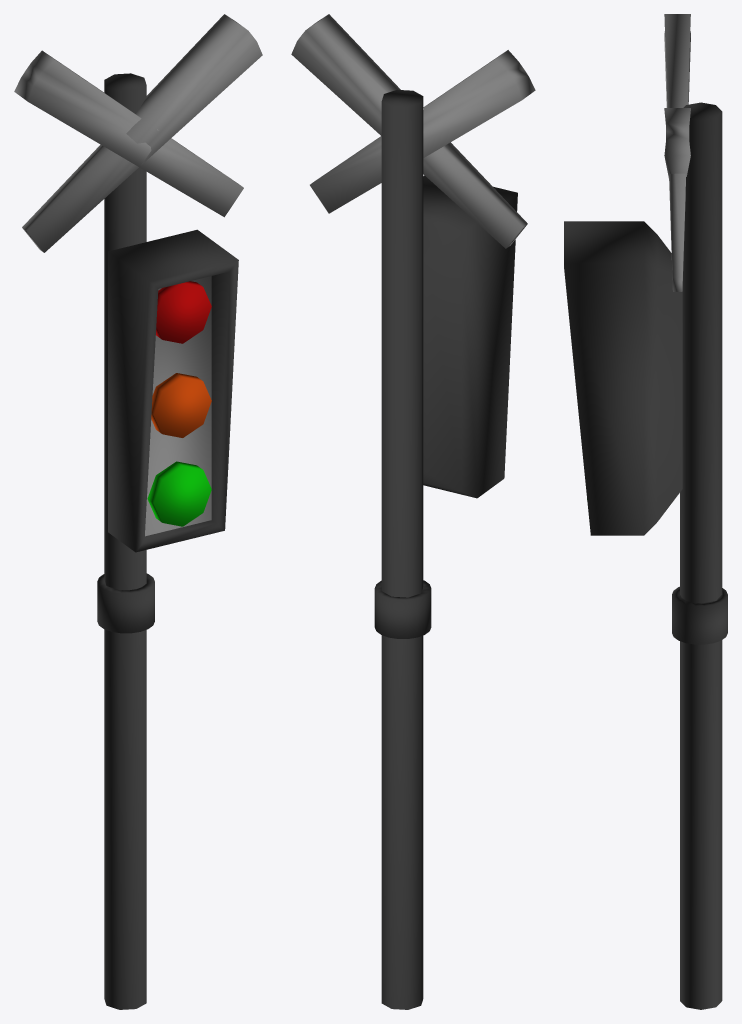
The model's file is TrafficLightOBJ.obj.
The picture shows the model from 3 angles, left to right: view 1: azimuth 30°, elevation 25°; view 2: azimuth 150°, elevation 25°; view 3: azimuth 270°, elevation 25°; orthographic projection. The views are drawn at different scales.
Visible parts, largest first — view 1: TrafficLight_Right; view 2: TrafficLight_Right; view 3: TrafficLight_Right.
Part boxes in pixels (bbox=[...]): TrafficLight_Right: bbox=[14, 14, 262, 1009]; TrafficLight_Right: bbox=[291, 14, 535, 1009]; TrafficLight_Right: bbox=[564, 14, 727, 1009].
Size of the model in its own units: 2.72 by 10.81 by 1.7.
